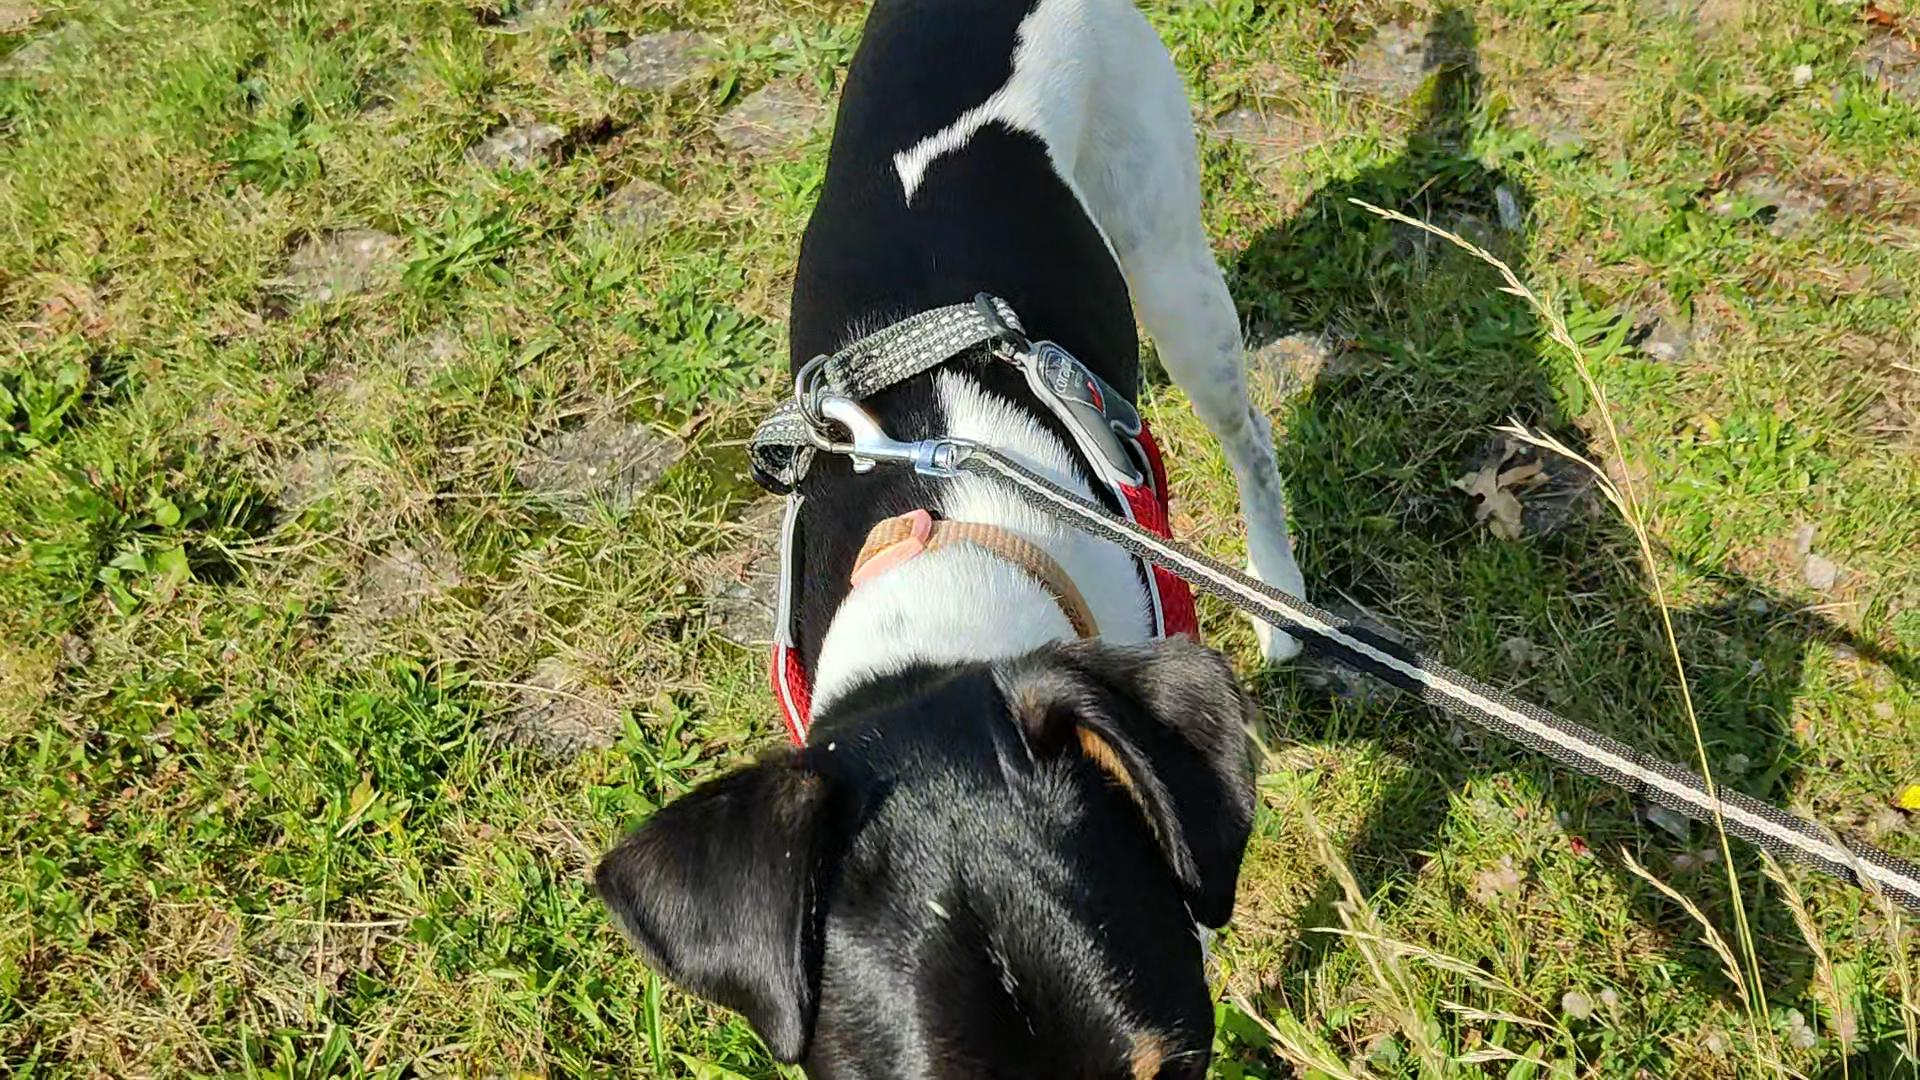Dog: (558, 0, 1346, 1080)
